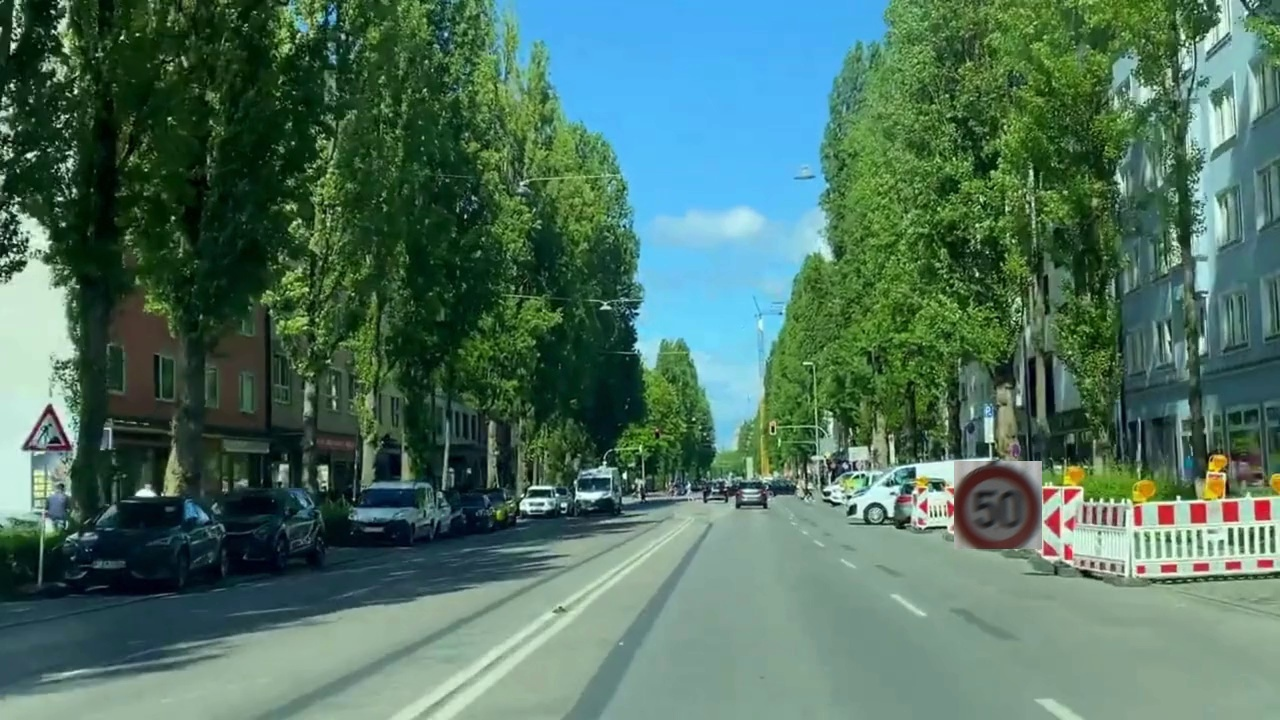Speed 50: (954, 461, 1042, 549)
